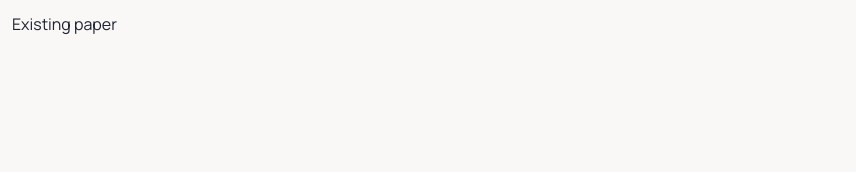
Scenario: list refresh, keyboard and accessible sheets › reports a failed refresh while retaining the list and offers retry
This screenshot has width=856, height=172.
Later steps or results of the test are not shown.
Press the mouse on the text "Existing paper": [64, 24] box [12,13,117,35]
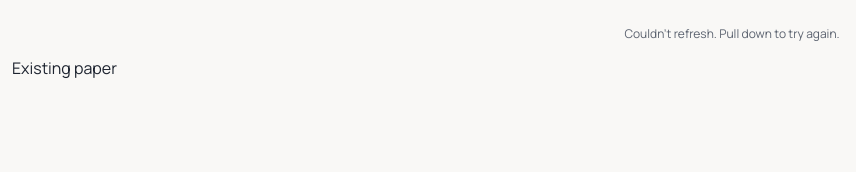
Expected: the text "Existing paper" is shown, [12,57,117,79]
Result: the message shows "Couldn’t refresh" at [624,25,840,42]
